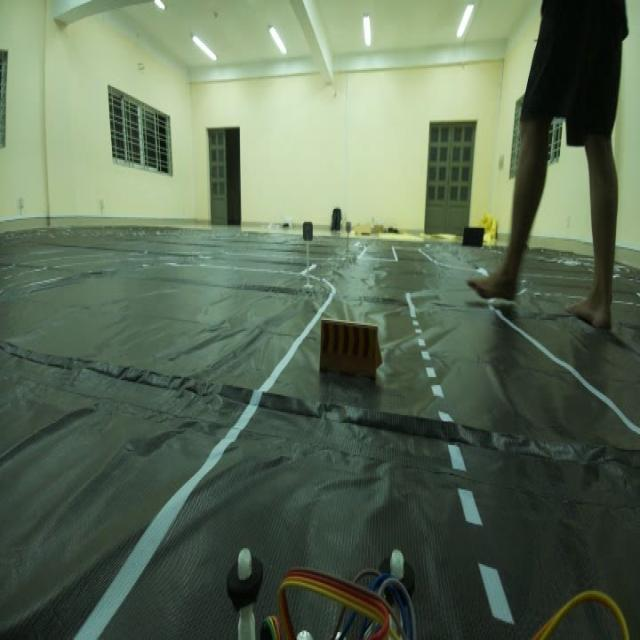roadblock: (318, 303, 395, 419)
